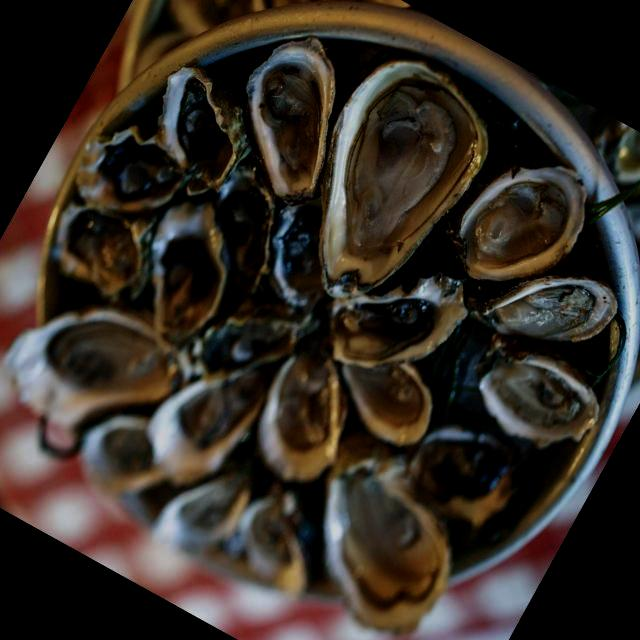Oyster-Closed: (426, 314, 494, 432)
Oyster-Open: (324, 73, 477, 286), (34, 315, 187, 456), (329, 460, 448, 634), (451, 167, 587, 283), (167, 365, 278, 487), (410, 429, 537, 535), (254, 350, 349, 487), (326, 274, 462, 368), (48, 207, 159, 314), (148, 201, 227, 347), (478, 353, 592, 451), (246, 52, 328, 187), (160, 72, 243, 194), (482, 280, 619, 350), (243, 486, 328, 598), (335, 361, 431, 451), (160, 468, 250, 561), (183, 307, 304, 376), (77, 130, 187, 204), (215, 179, 277, 307), (258, 198, 324, 314), (78, 411, 166, 498)
